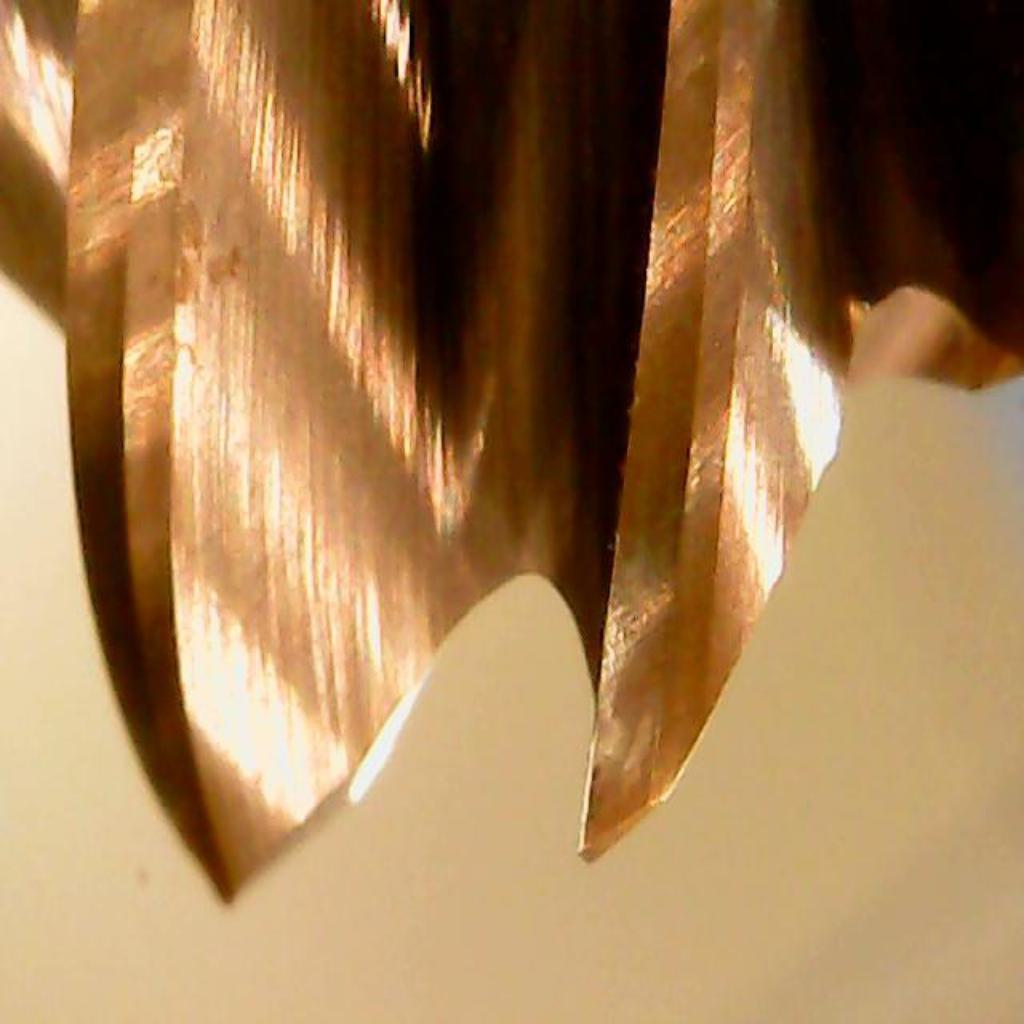Tool-wear-class-0: (560, 351, 728, 881)
